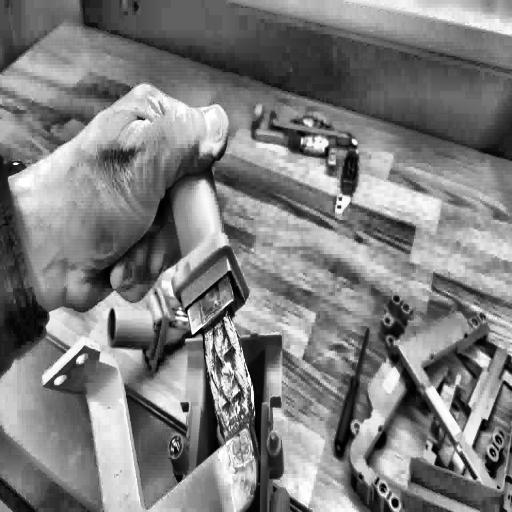busbar: (242, 92, 362, 221)
connector: (41, 140, 283, 512)
